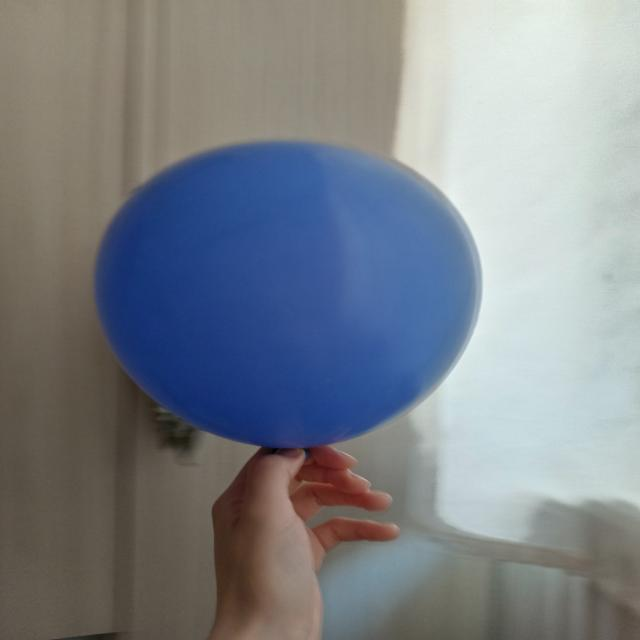blue: (97, 141, 482, 450)
